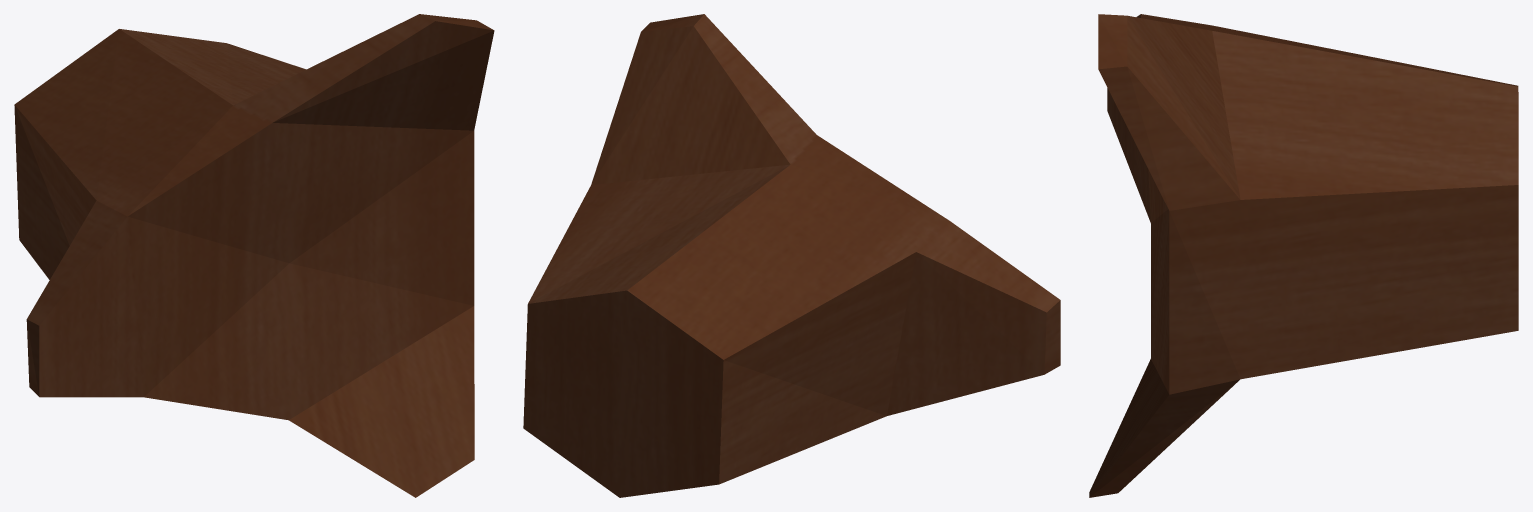
Rendered from log-tree.obj.
3 views of the same model, side by side, from view 1: azimuth 30°, elevation 25°; view 2: azimuth 150°, elevation 25°; view 3: azimuth 270°, elevation 25° (orthographic). The views are drawn at different scales.
Parts seen in each view (by area): view 1: log-tree_Circle.026; view 2: log-tree_Circle.026; view 3: log-tree_Circle.026.
Part boxes in pixels (left/top/right/bottom): log-tree_Circle.026: left=14, top=14, right=494, bottom=497; log-tree_Circle.026: left=523, top=14, right=1060, bottom=497; log-tree_Circle.026: left=1089, top=14, right=1518, bottom=497.
Size of the model in its own units: 3.41 by 3.28 by 2.6.
